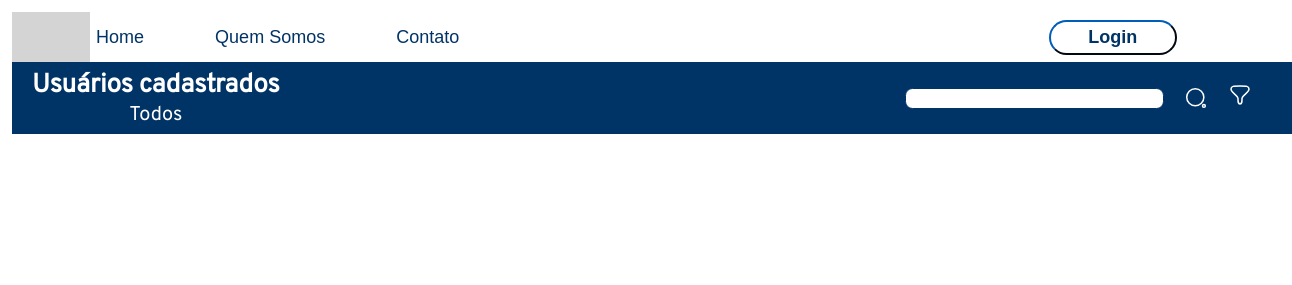
Scenario: UsersListPage › deve filtrar usuarios com base na pesquisa
The image size is (1292, 285).
Step 1. Type "Another User" into the field → (1034, 98), box [905, 88, 1164, 109]
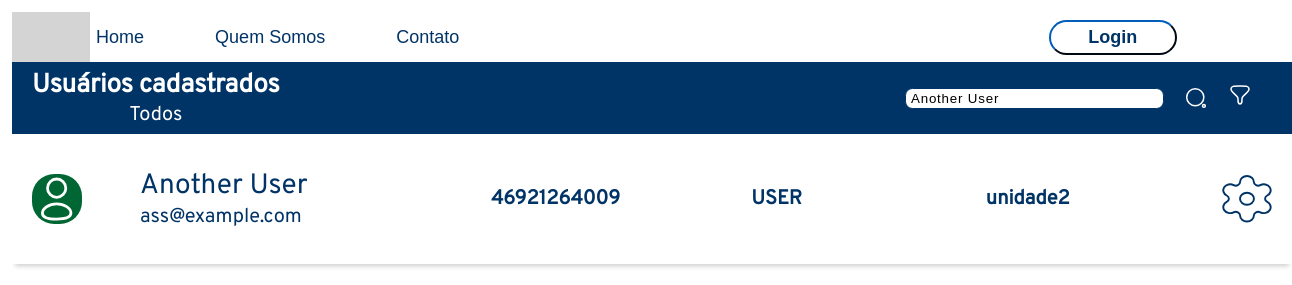
Now the heading "ass@example.com" is shown, box [140, 204, 302, 230]
